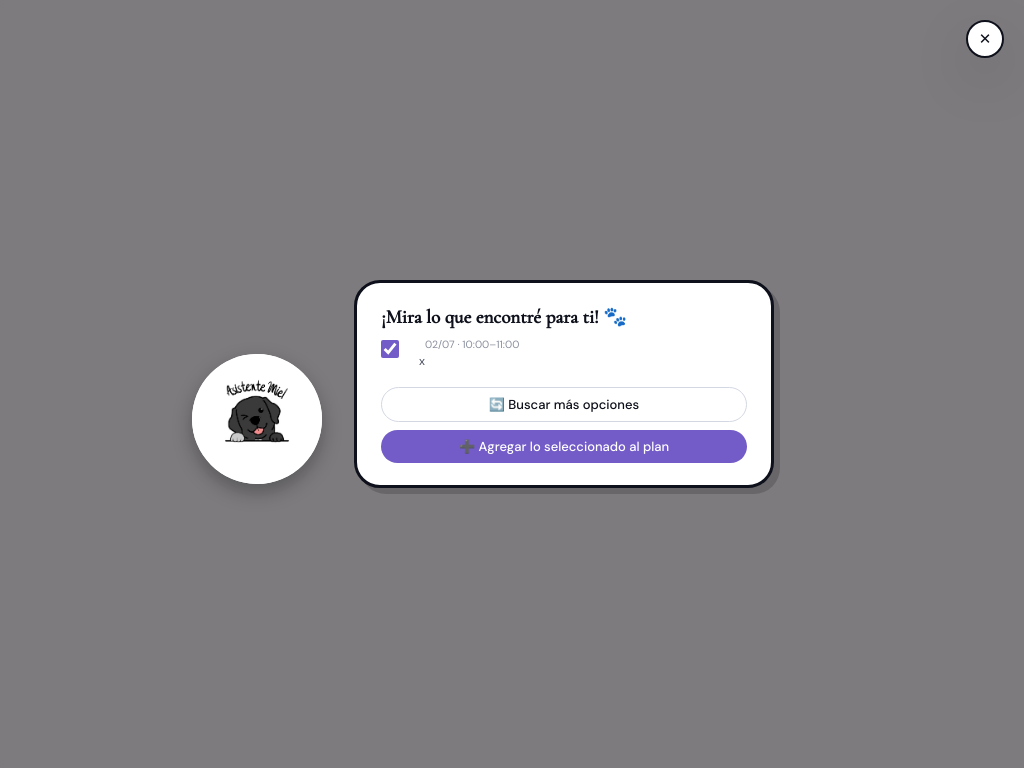
Scenario: CitySuggestCloudComponent › disables the add button once every suggestion is unchecked
The width and height of the screenshot is (1024, 768).
Check: the button with class "city-suggest-add-all" is enabled, box [381,430,747,463]
Click the checkbox with class "csc-msg-check" at {"x": 390, "y": 349}, box [381,340,399,358]
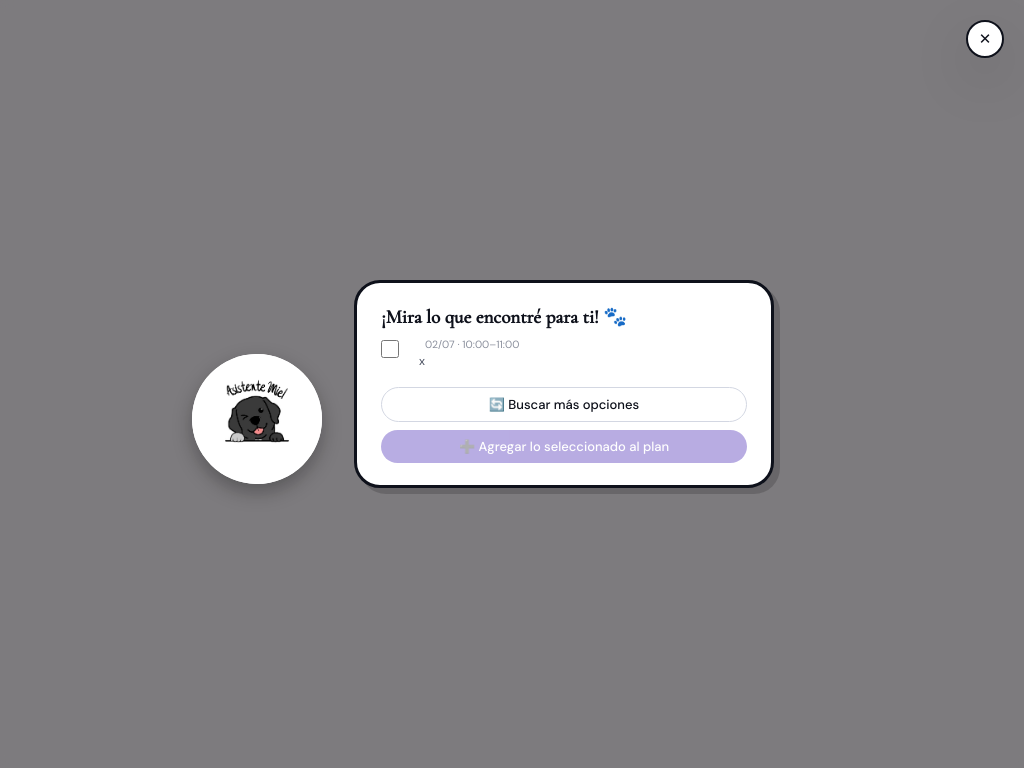
Check: the button with class "city-suggest-add-all" is disabled, box [381,430,747,463]
